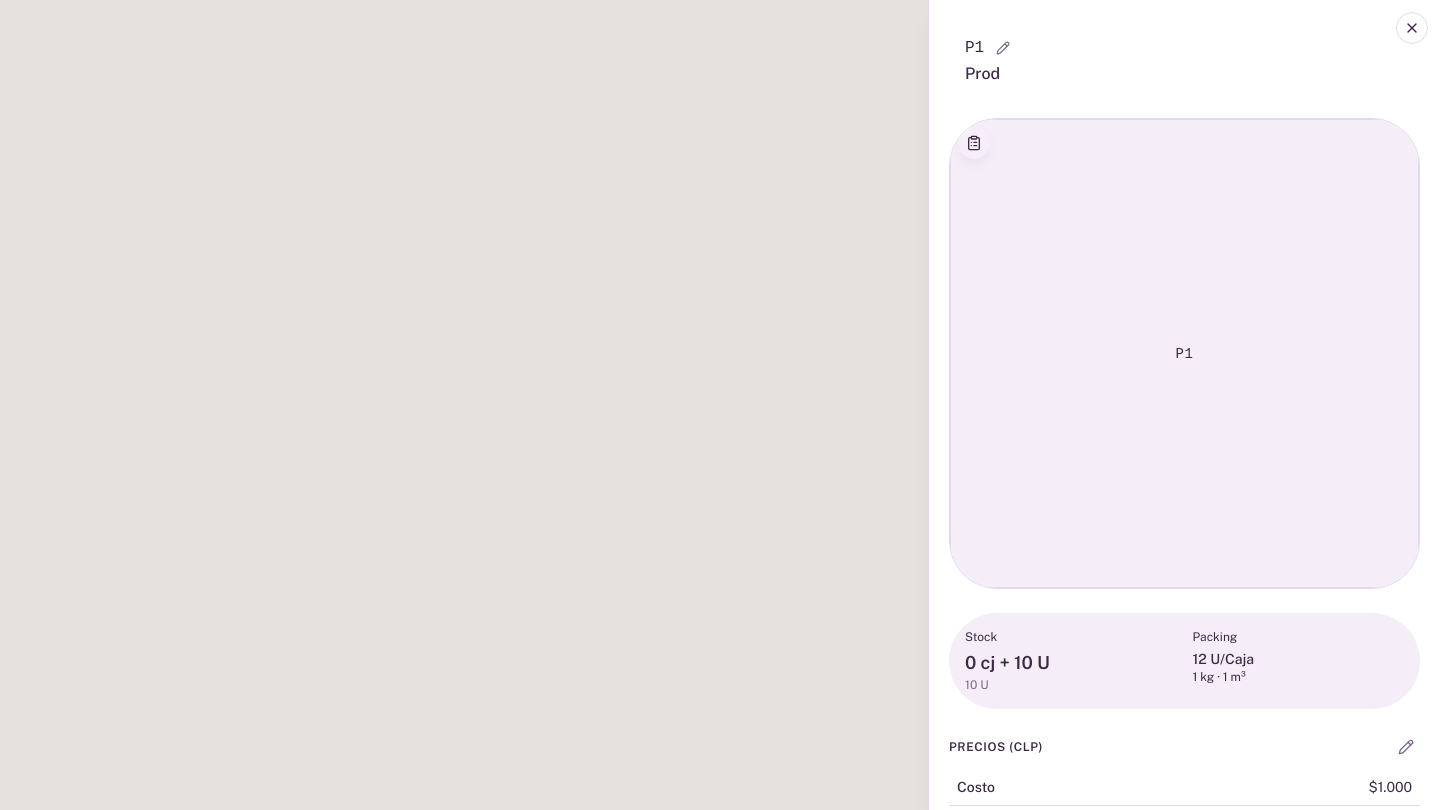
ProductDrawer — edicion directa › no hay % de ganancia editable ni rama legacy; siempre costo/precio detalle/precio mayor/minimo
Click the button titled "Editar producto" at (1406, 747), box x1=1392 y1=733 x2=1420 y2=761
(page scrolled)
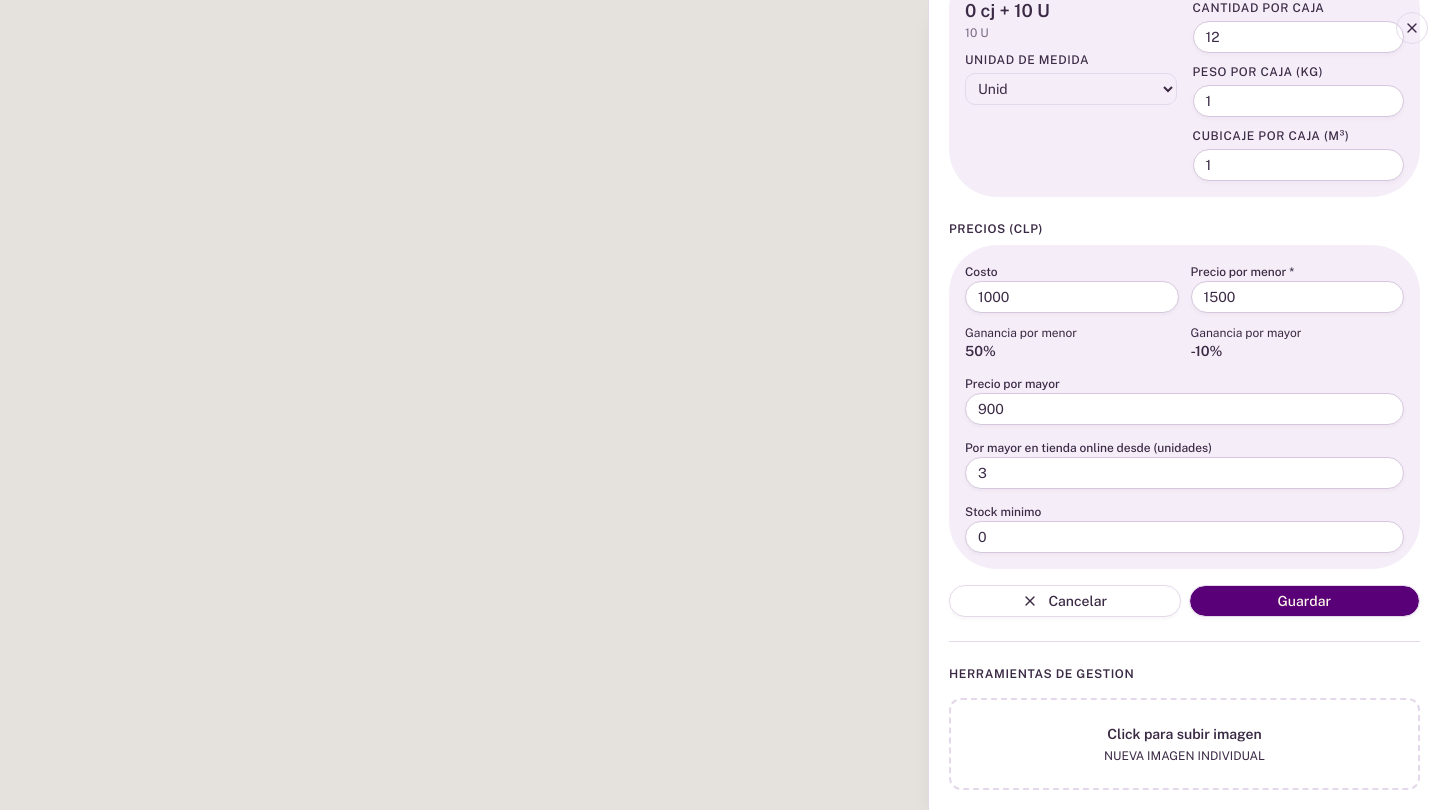
Now the number field with test id "edit-costo" is shown, box x1=965 y1=281 x2=1178 y2=313
Now the number field with test id "edit-precio-detalle" is shown, box x1=1190 y1=281 x2=1404 y2=313
Now the number field with test id "precio-mayor-input" is shown, box x1=965 y1=393 x2=1404 y2=425
